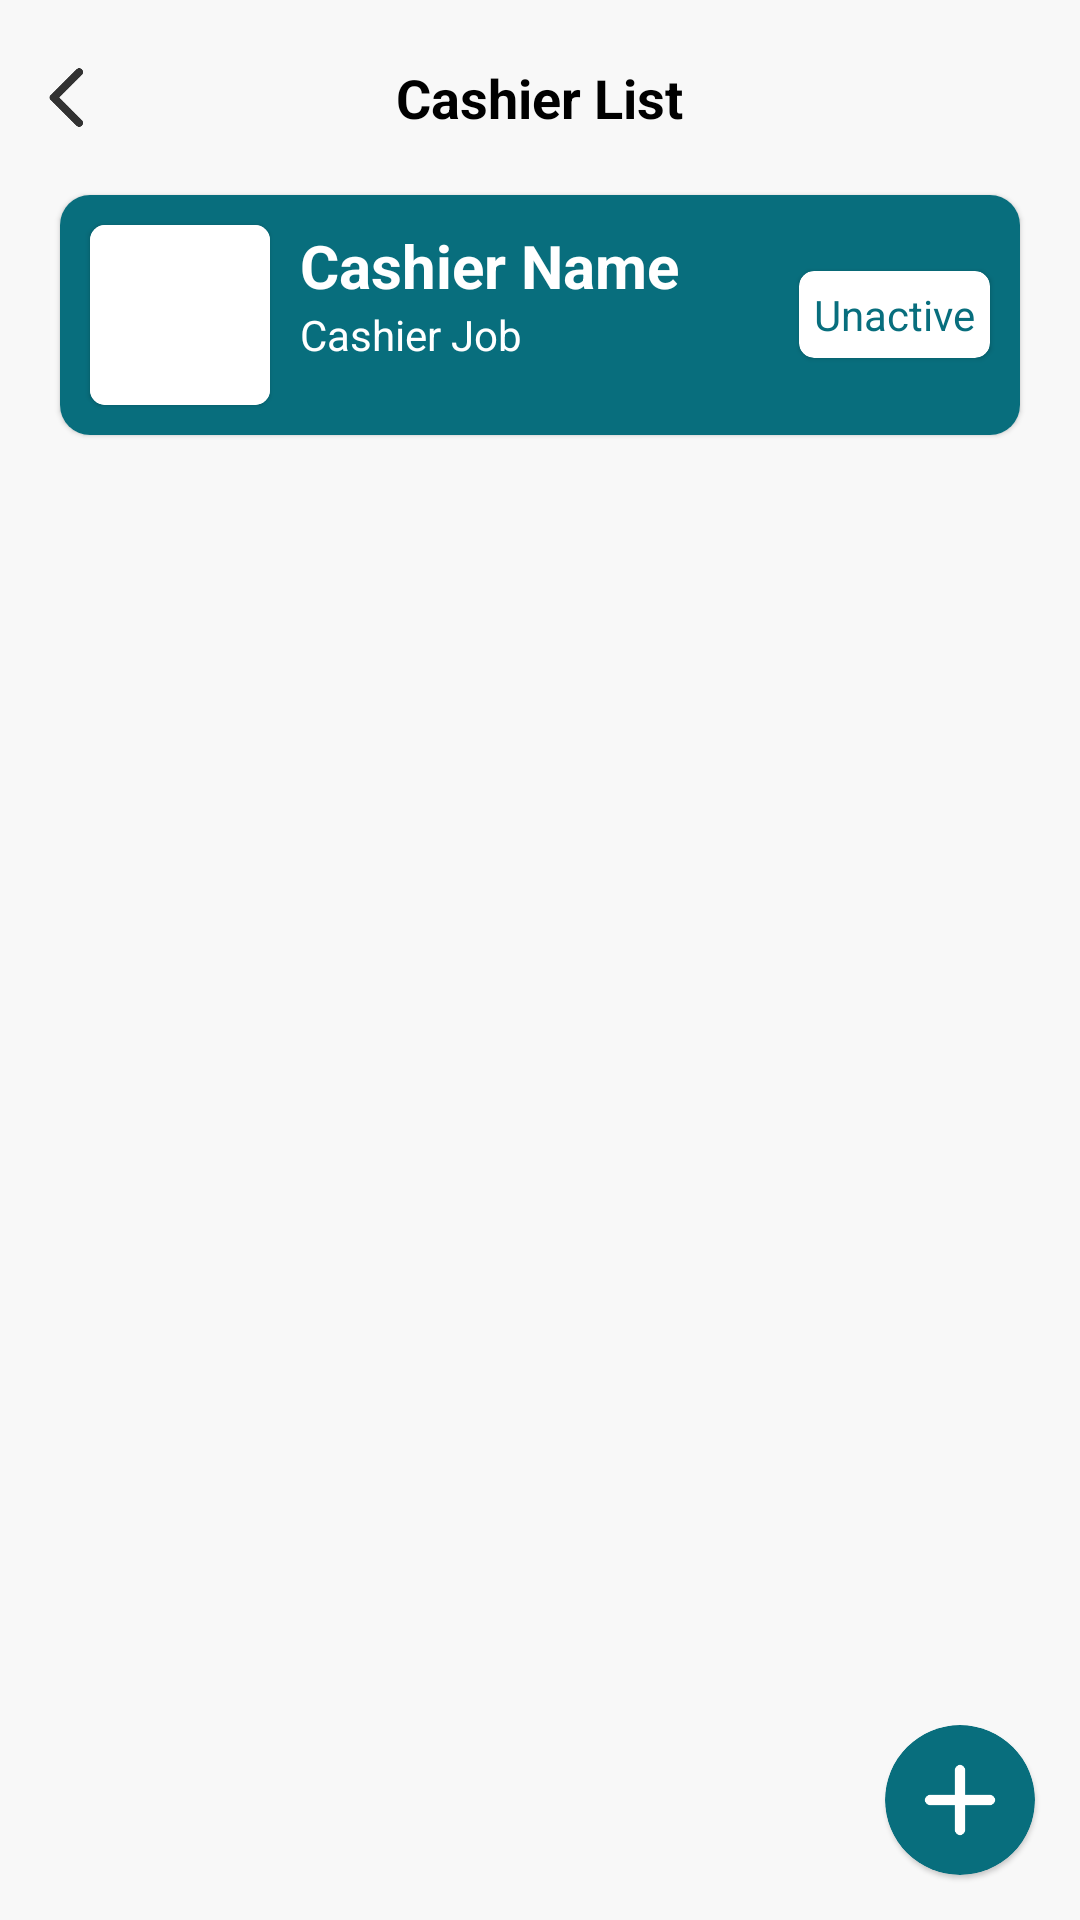

Point at icon controls on the screen. Image size 1080 × 1920, points as (x,y).
add: (960,1800)
back: (66,97)
